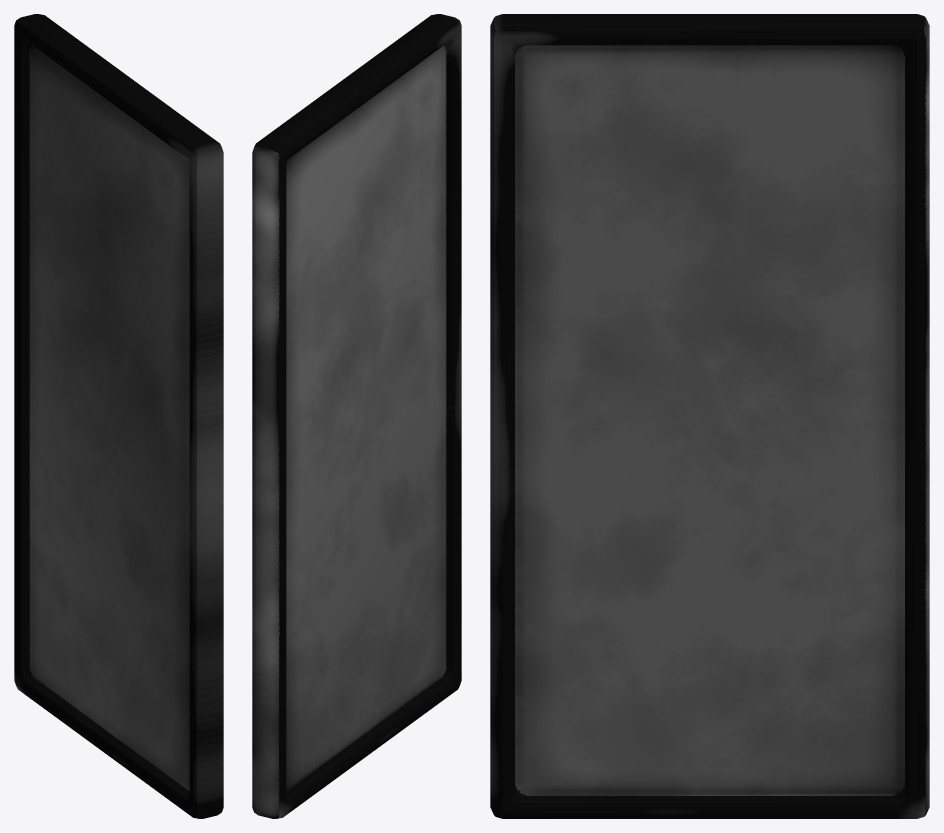
File: Door_Office.fbx
3 renders of one model, left to right at view 1: azimuth 30°, elevation 25°; view 2: azimuth 150°, elevation 25°; view 3: azimuth 270°, elevation 25°, orthographic. The views are drawn at different scales.
Parts seen in each view (by area): view 1: Cube.030, Cube.027; view 2: Cube.030, Cube.027; view 3: Cube.030, Cube.027.
Part boxes in pixels (x1,y1,x2,y2): Cube.030: (29,45,189,790); Cube.027: (14,14,223,818); Cube.030: (286,45,446,790); Cube.027: (252,14,461,818); Cube.030: (515,45,904,795); Cube.027: (490,14,929,818).
Bounding box in the file's own units: 10 × 200 × 100.
1 material, 1 textured.
